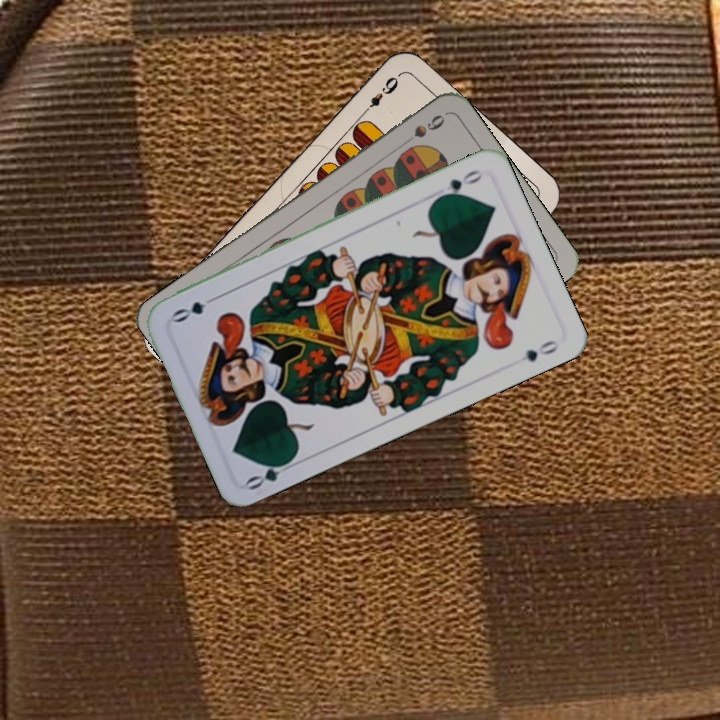E9: (357, 70, 402, 118)
GO: (242, 454, 299, 493), (432, 165, 486, 202)
S9: (396, 110, 448, 150)
